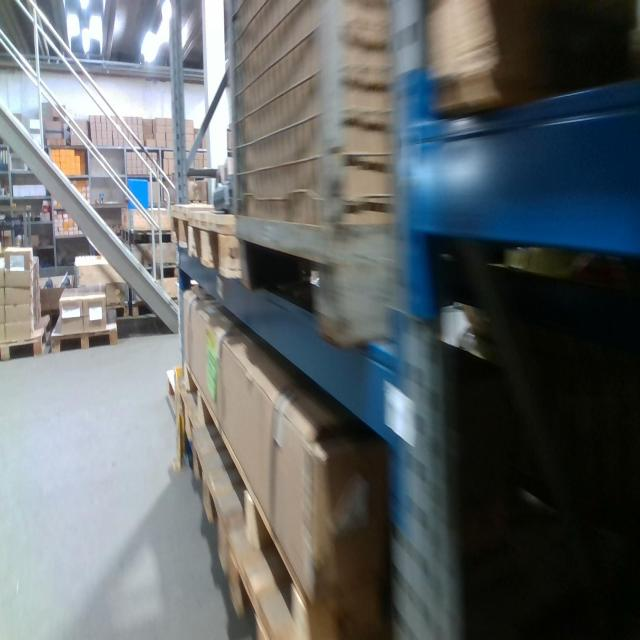pallet: (220, 430, 391, 637), (224, 538, 309, 637), (181, 366, 223, 486), (186, 204, 250, 277), (49, 305, 117, 355), (195, 460, 230, 557), (2, 310, 49, 362), (120, 223, 180, 245), (168, 199, 187, 259), (101, 298, 132, 317), (132, 293, 152, 321)
stillage: (222, 3, 409, 347)
